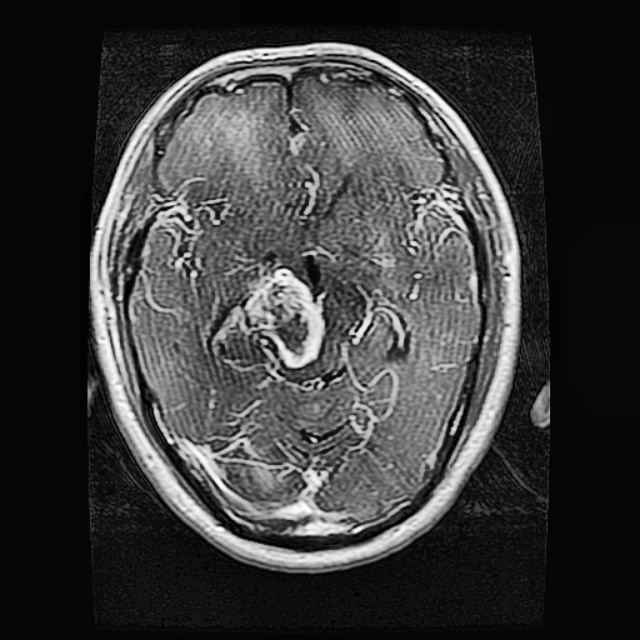Pituitary: (242, 265, 330, 368)
